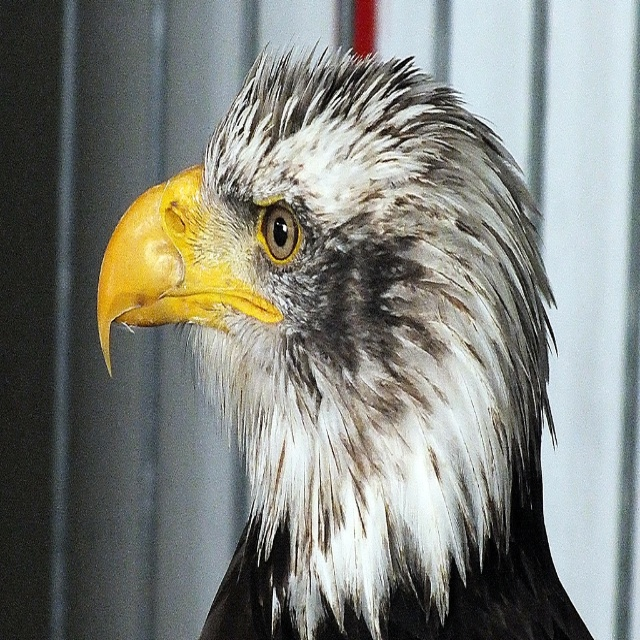Eagle: (98, 44, 594, 639)
